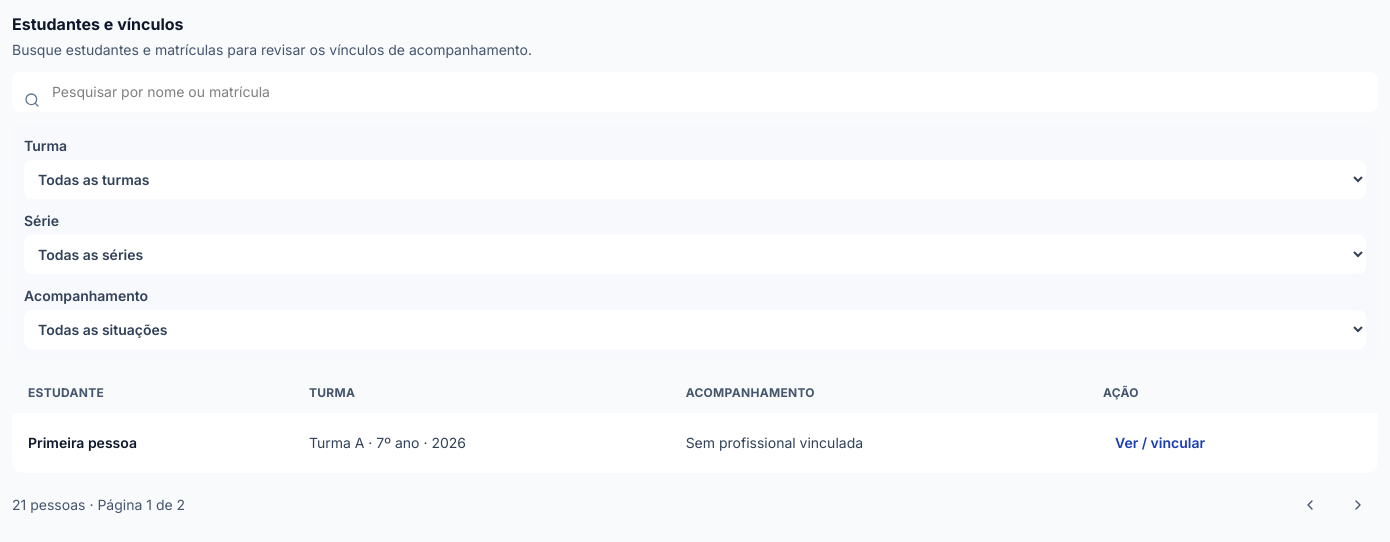
it: PsychologyStudentRoster › envia busca, filtros e página ao servidor e mantém a paginação controlada
Expected: the row "Primeira pessoa" is shown, top-left (12, 413), bottom-right (1378, 473)
Type "MAT-2026" into the field named "pesquisar estudante". click: (695, 92)
box: top-left (12, 72), bottom-right (1378, 112)
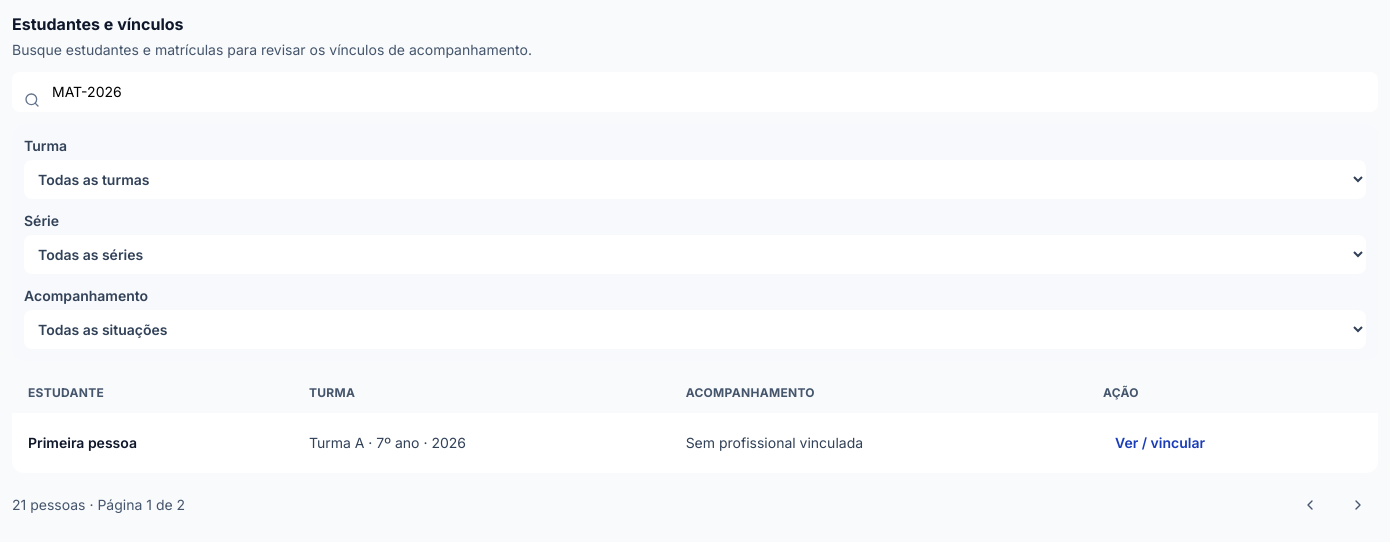
Select "Turma A · 2026" in the dropdown labelled "Turma". click: (695, 180)
box: top-left (24, 160), bottom-right (1366, 199)
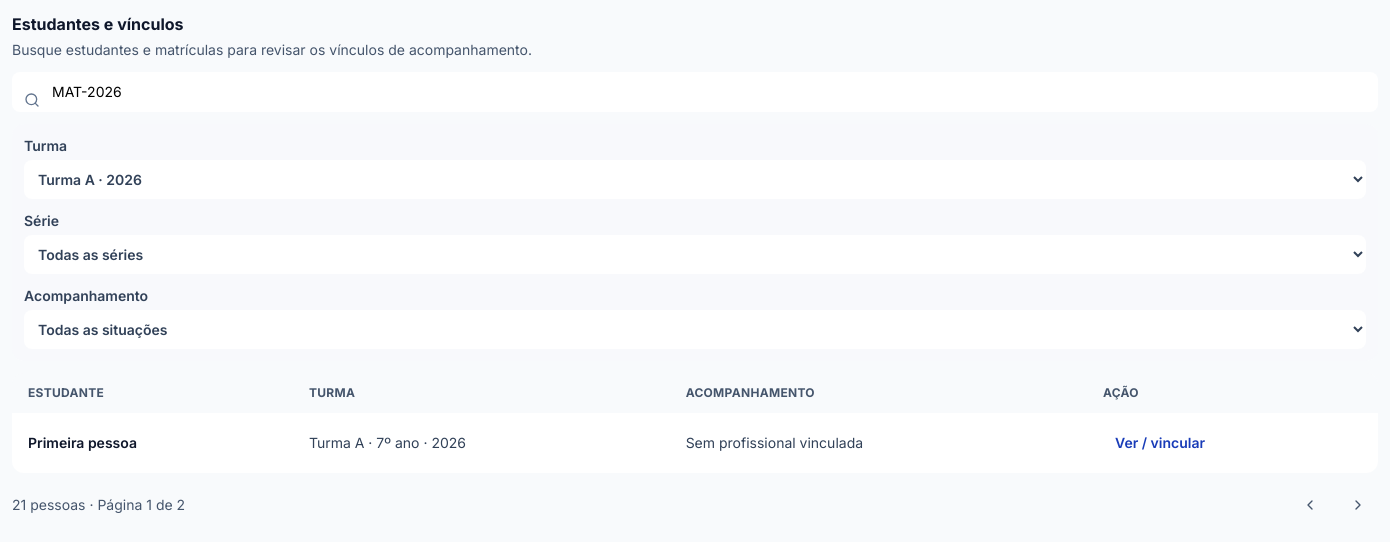
Select "7º ano" in the dropdown labelled "Série". click: (695, 254)
box: top-left (24, 235), bottom-right (1366, 274)
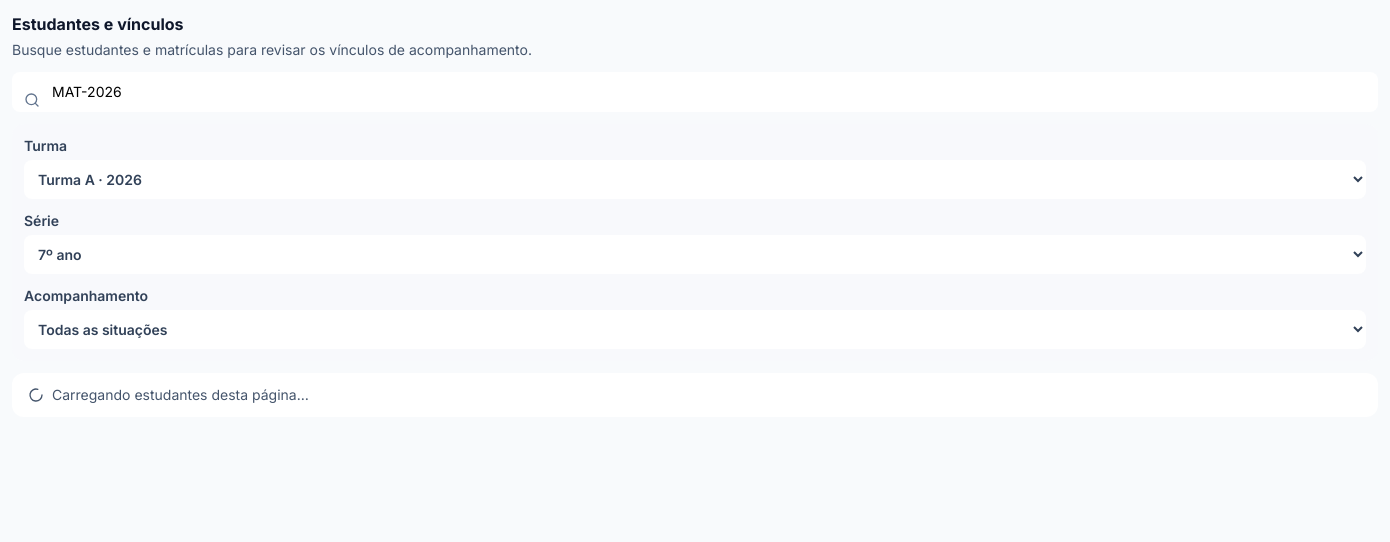
Select "Com profissional vinculada" in the dropdown labelled "Acompanhamento". click: (695, 330)
box: top-left (24, 310), bottom-right (1366, 349)
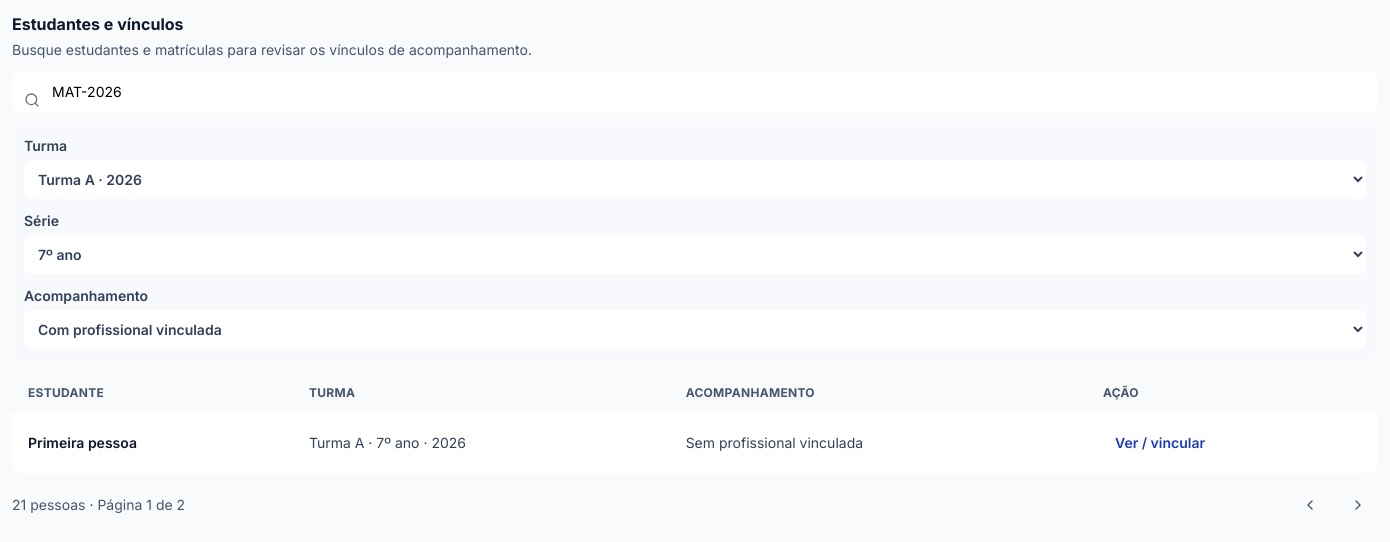
Click the button named "próxima página". click: click(1358, 505)
box: top-left (1338, 485), bottom-right (1378, 525)
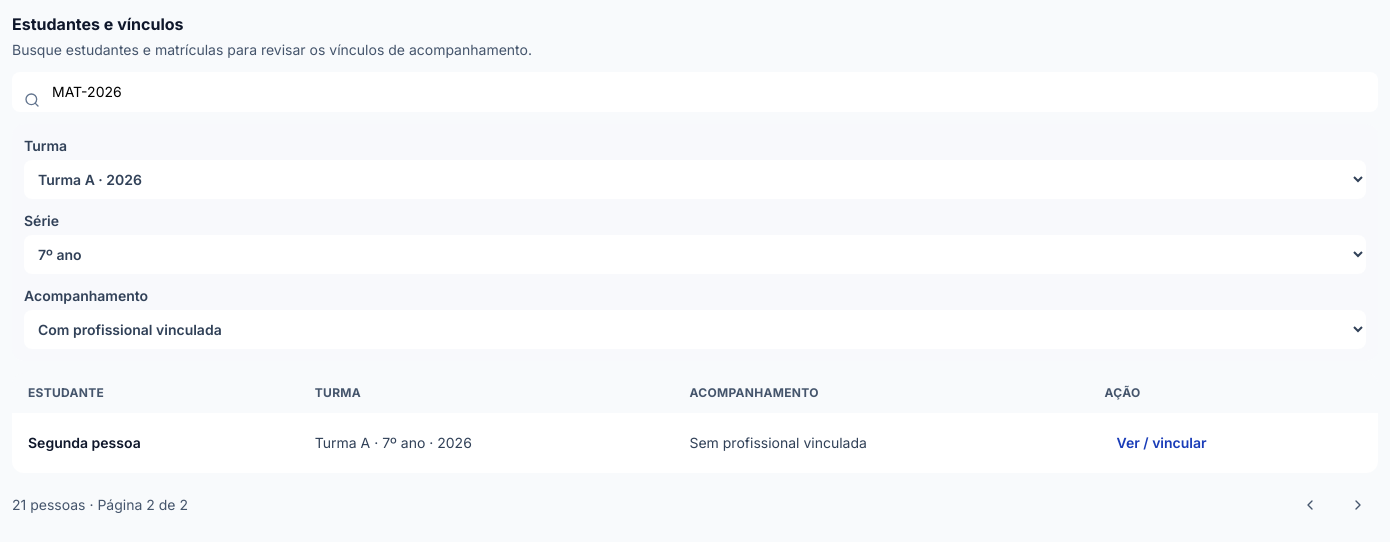
Now the row "Segunda pessoa" is shown, box top-left (12, 413), bottom-right (1378, 473)
